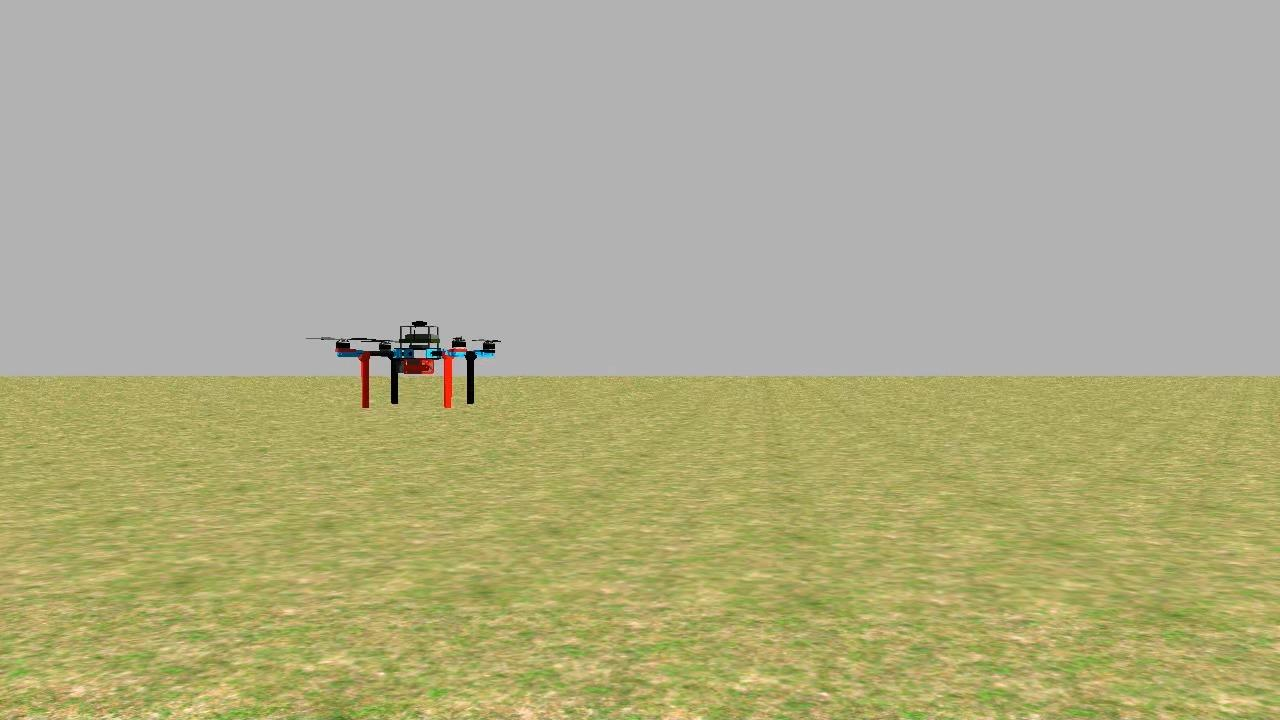UAV: (329, 299, 505, 428)
